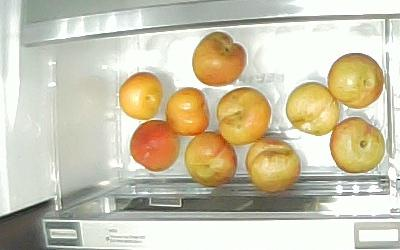prune: (245, 137, 302, 194), (328, 53, 384, 110), (192, 30, 248, 86), (216, 88, 272, 144), (330, 117, 385, 173), (184, 131, 237, 186), (286, 82, 339, 136), (131, 120, 179, 171), (166, 88, 211, 136), (120, 72, 163, 120)
